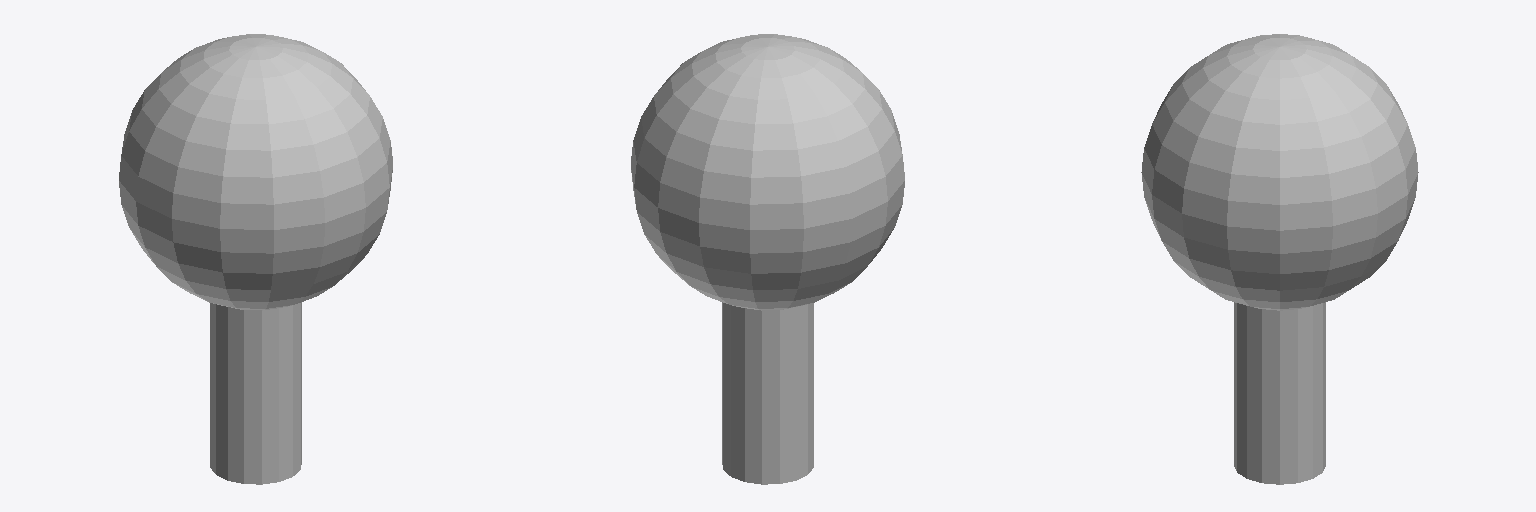
Rendered from example_tree.obj.
3 renders of one model, left to right at view 1: azimuth 30°, elevation 25°; view 2: azimuth 150°, elevation 25°; view 3: azimuth 270°, elevation 25°, orthographic.
Parts seen in each view (by area): view 1: Cylinder; view 2: Cylinder; view 3: Cylinder.
Part boxes in pixels (left/top/right/bottom): Cylinder: left=119, top=34, right=392, bottom=484; Cylinder: left=631, top=34, right=904, bottom=484; Cylinder: left=1141, top=34, right=1418, bottom=484.
Size of the model in its own units: 6 by 10 by 6.